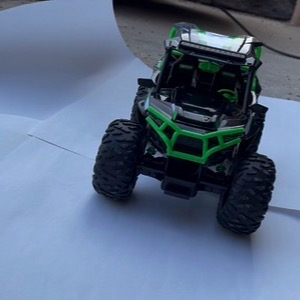polaris: (92, 20, 280, 239)
